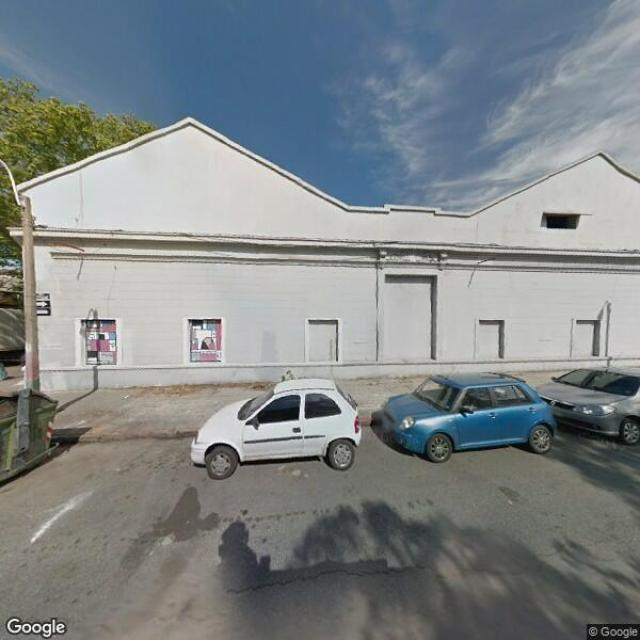garbage container: (2, 384, 71, 487)
